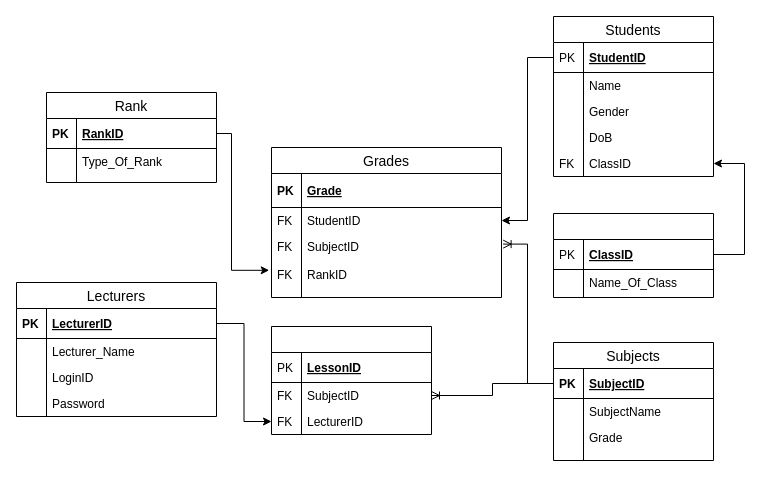
Some shapes in this 761 by 477 pixel diagram are drawn without their labels. Here are the shapes that lost their labels. From the top down, the box of each, then its label:
(552, 212, 714, 298): Classes
(270, 326, 432, 434): Lessons
